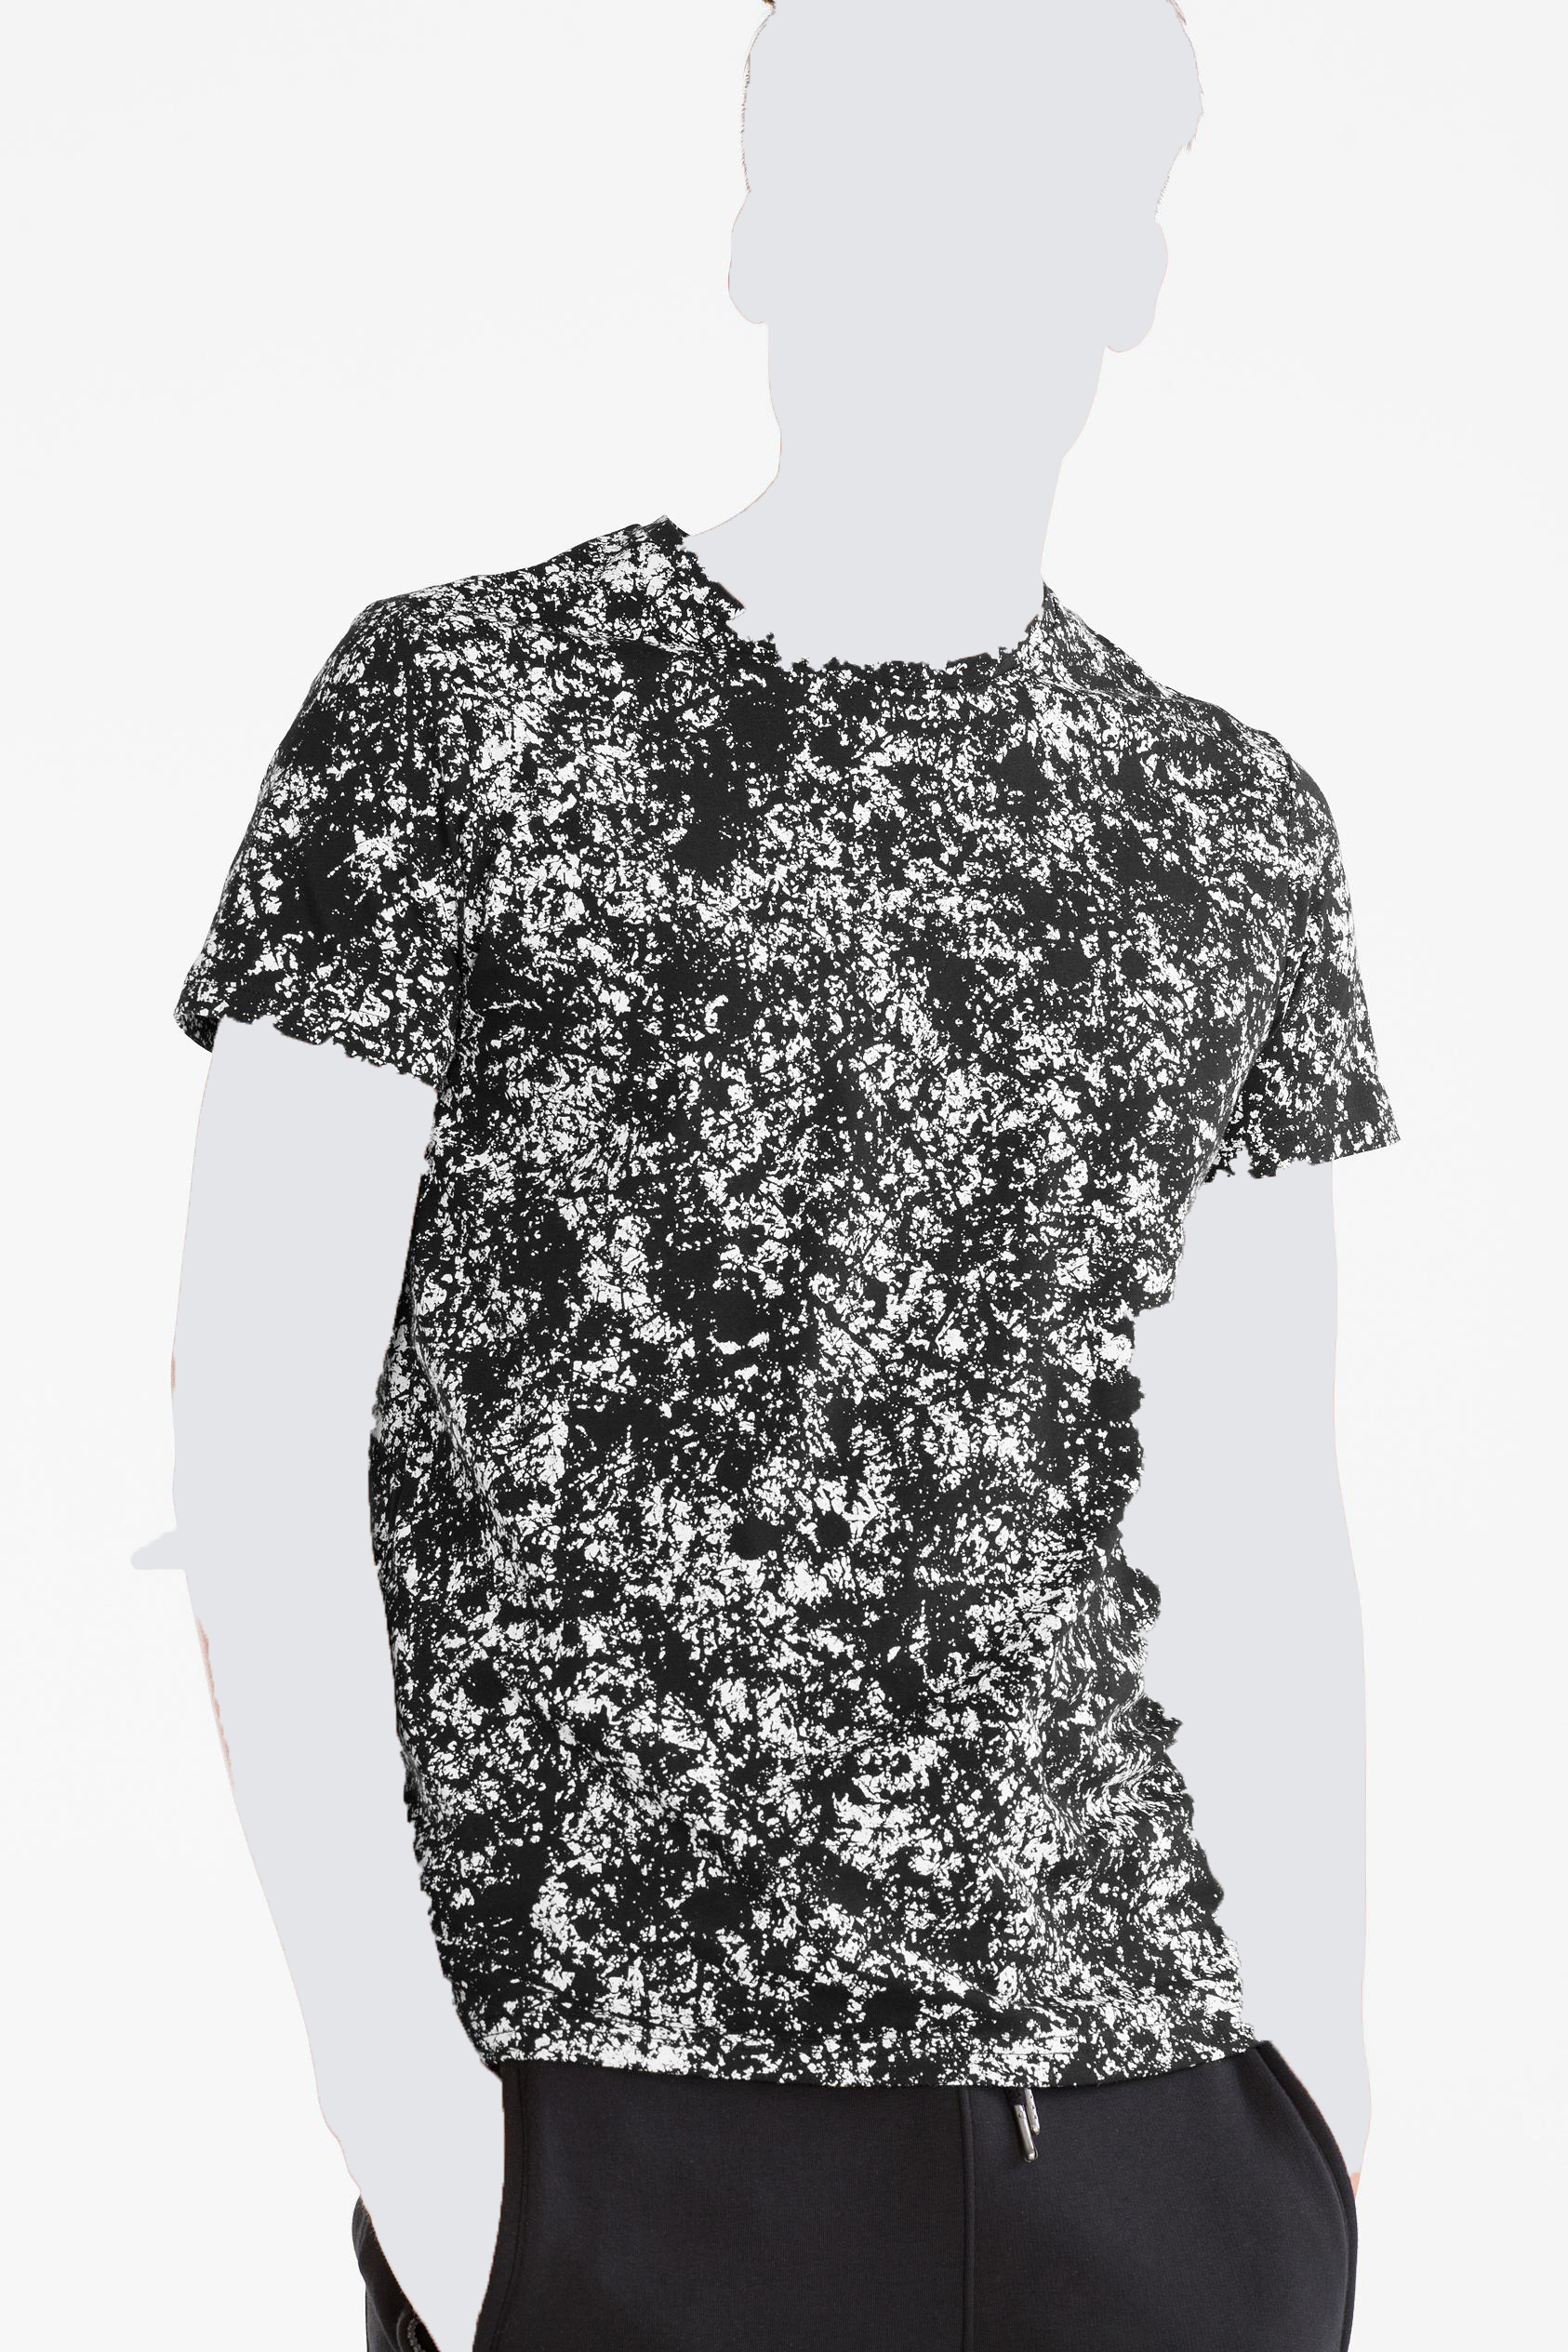teeshirt: (170, 511, 1423, 2098)
